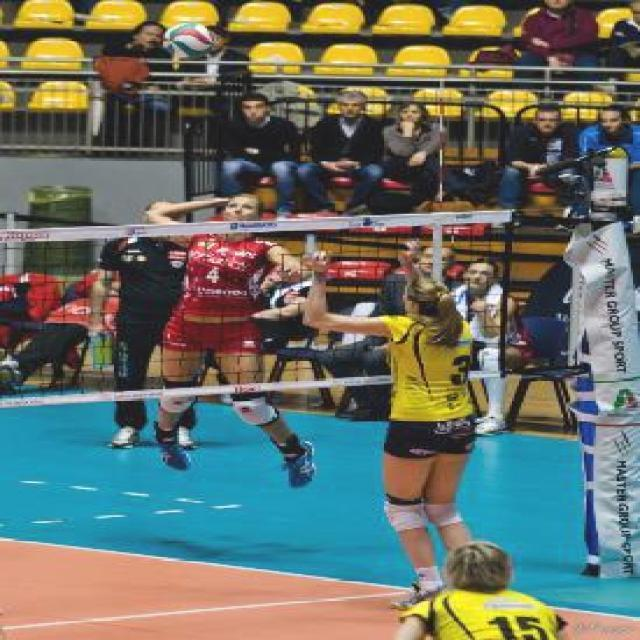volleyball: (163, 22, 216, 59)
